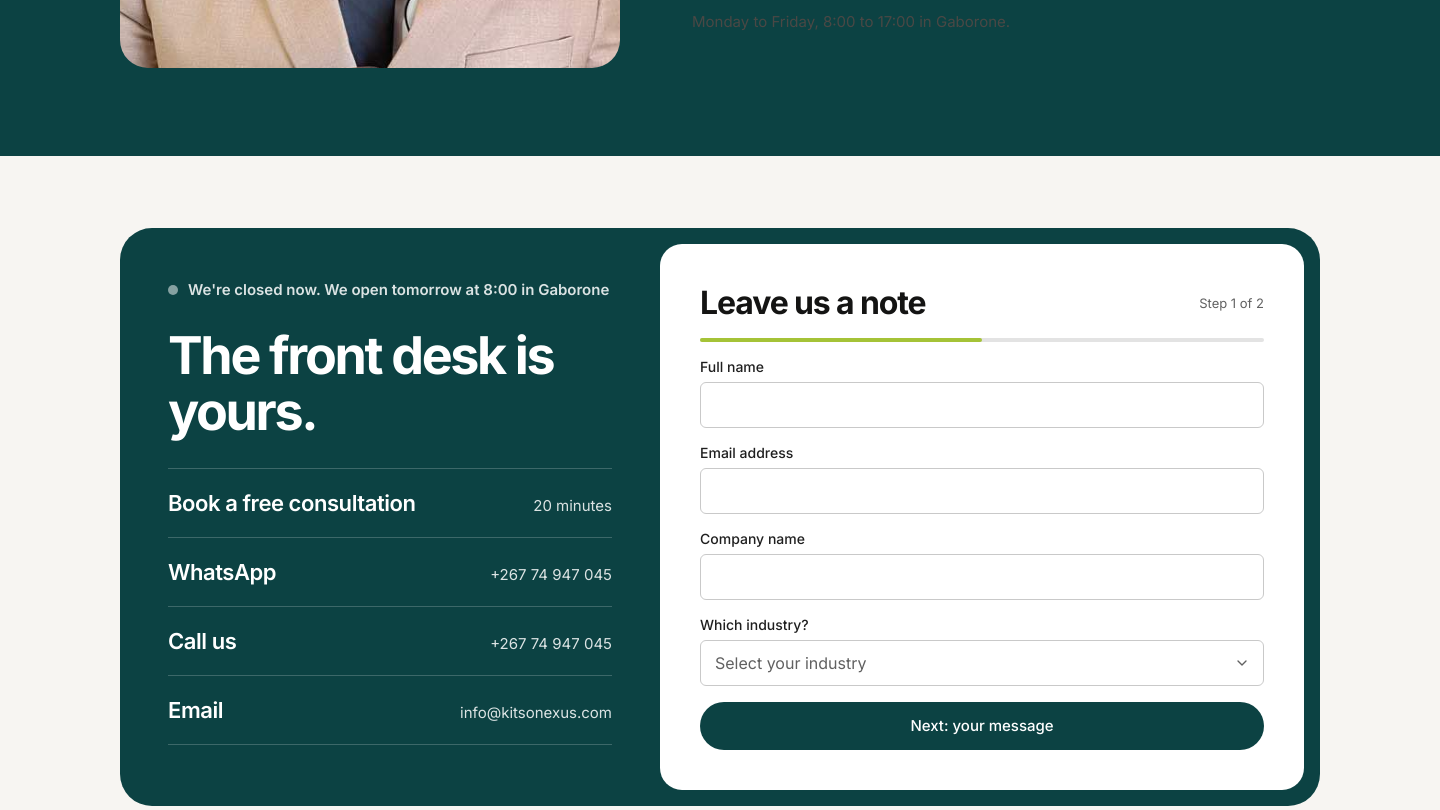
Contact page › sends the fixed format and says sent only when the server confirms
(page scrolled)
Step 1. Type "Neo Molefe" into the field labelled "Full name" → (982, 405), box [700, 382, 1264, 428]
Step 2. Type "neo@example.co.bw" into the field labelled "Email address" → (982, 491), box [700, 468, 1264, 514]
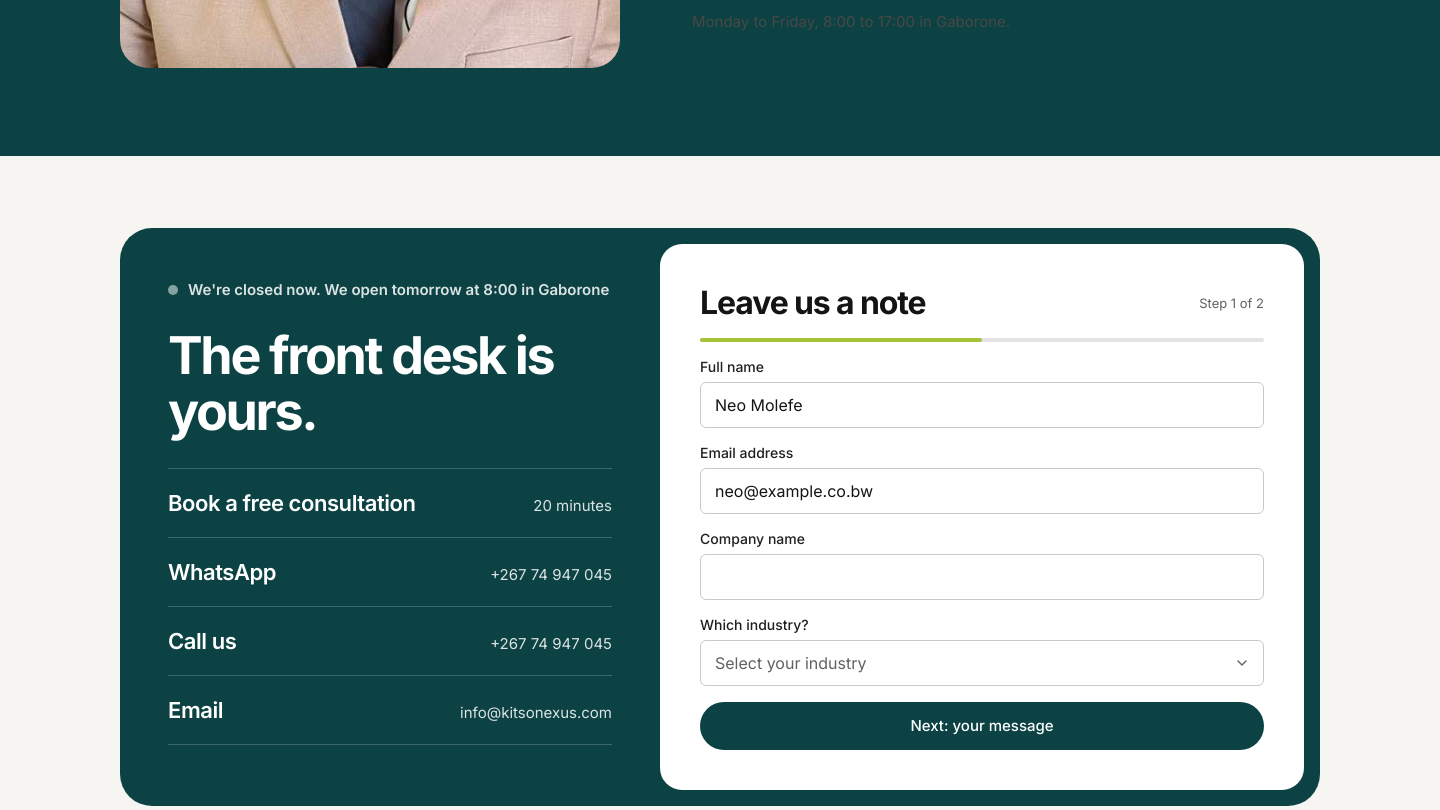
Step 3. Select "Retail & Distribution" in the dropdown labelled "Which industry?" → (982, 663), box [700, 640, 1264, 686]
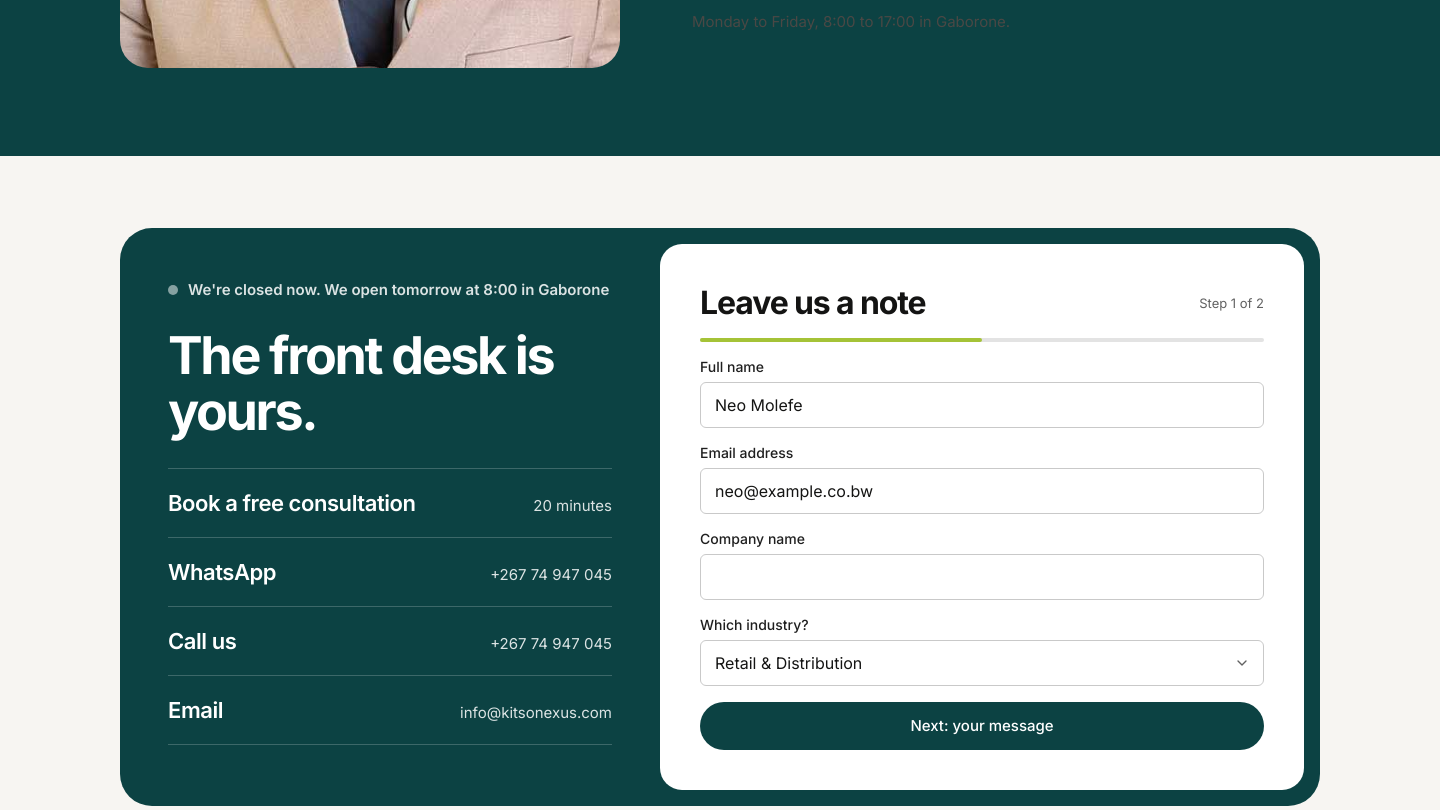
Step 4. Click the button "Next: your message" → (982, 726), box [700, 702, 1264, 750]
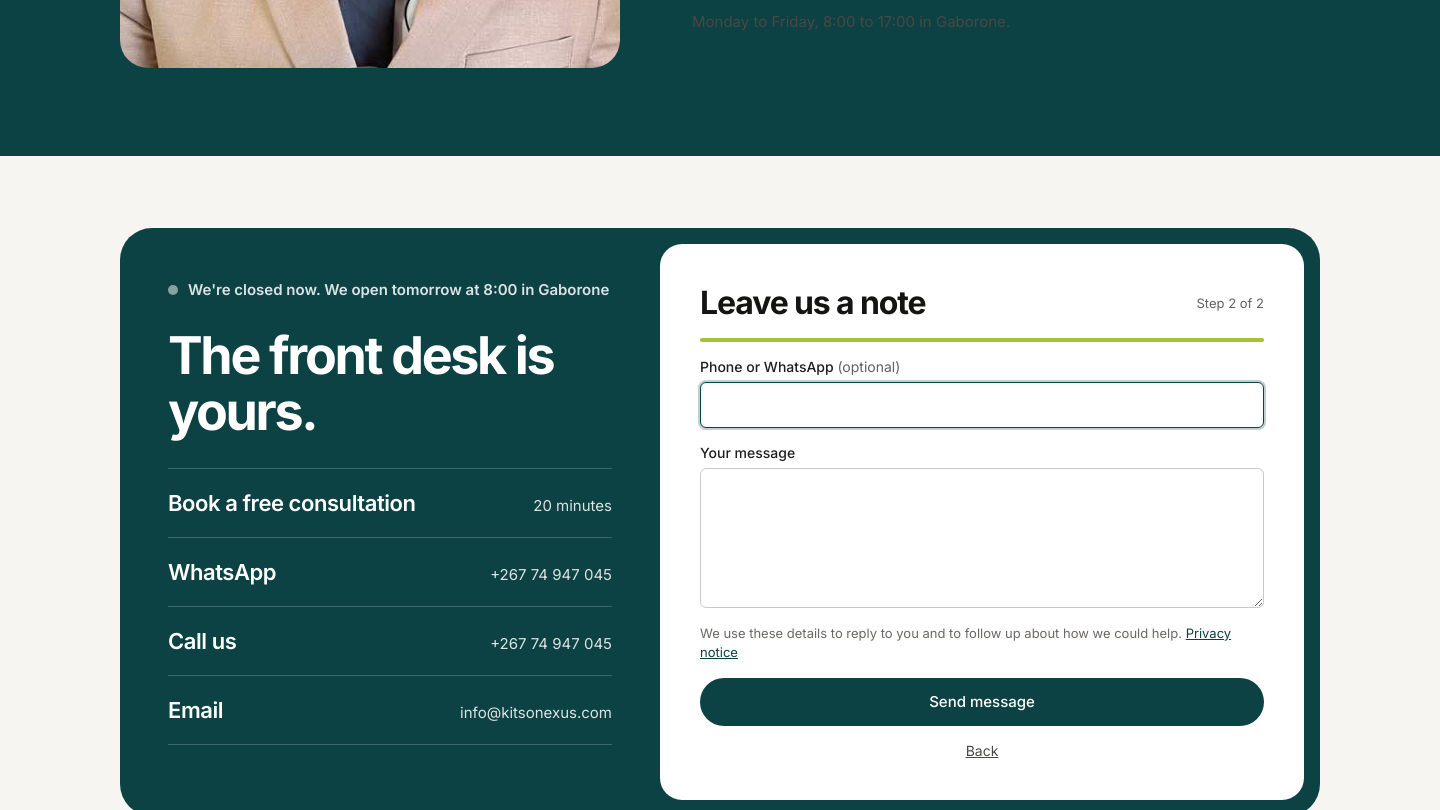
Step 5. Type "+267 71 234 567" into the field labelled "Phone or WhatsApp (optional)" → (982, 405), box [700, 382, 1264, 428]
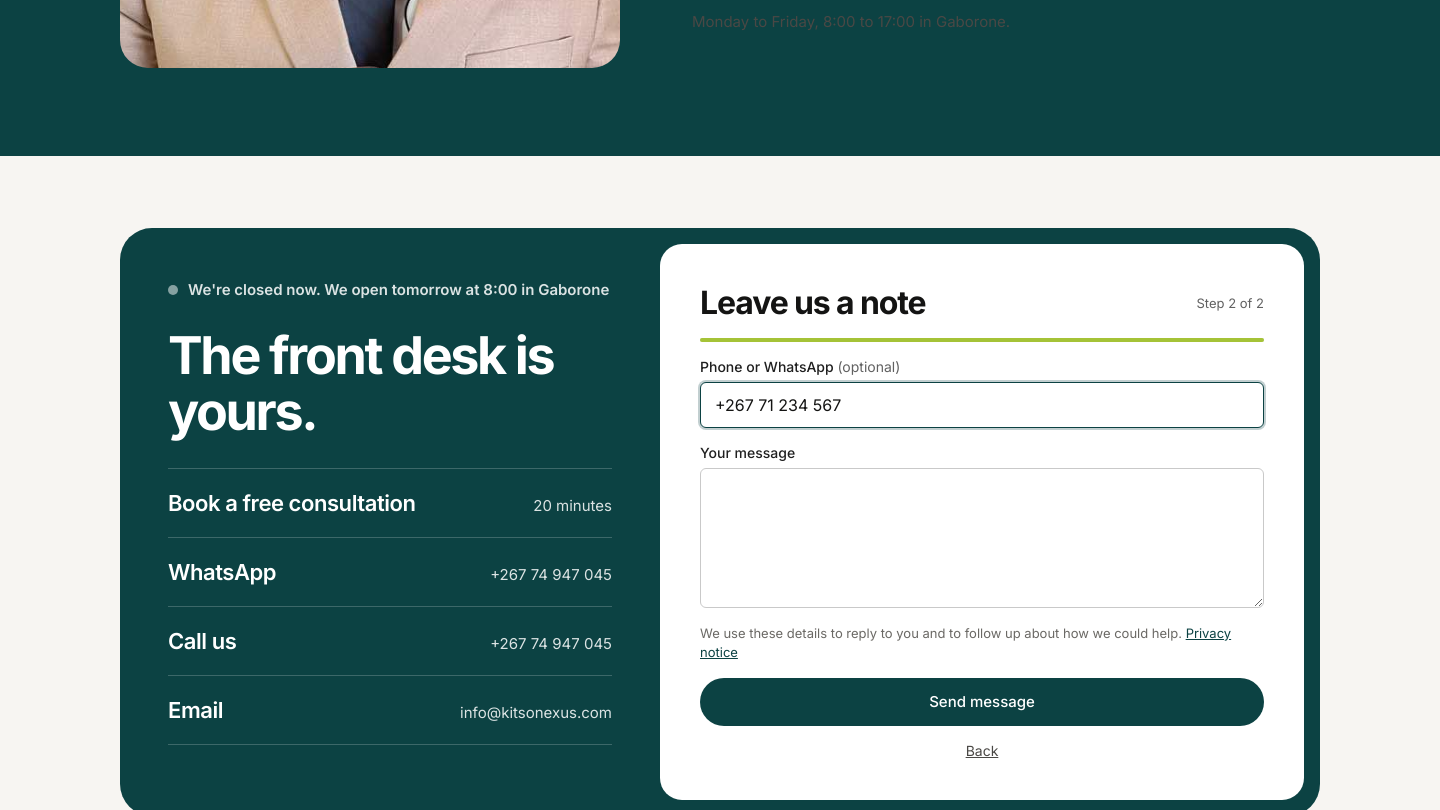
Step 6. Type "We need help with stock." into the text box labelled "Your message" → (982, 538), box [700, 468, 1264, 608]
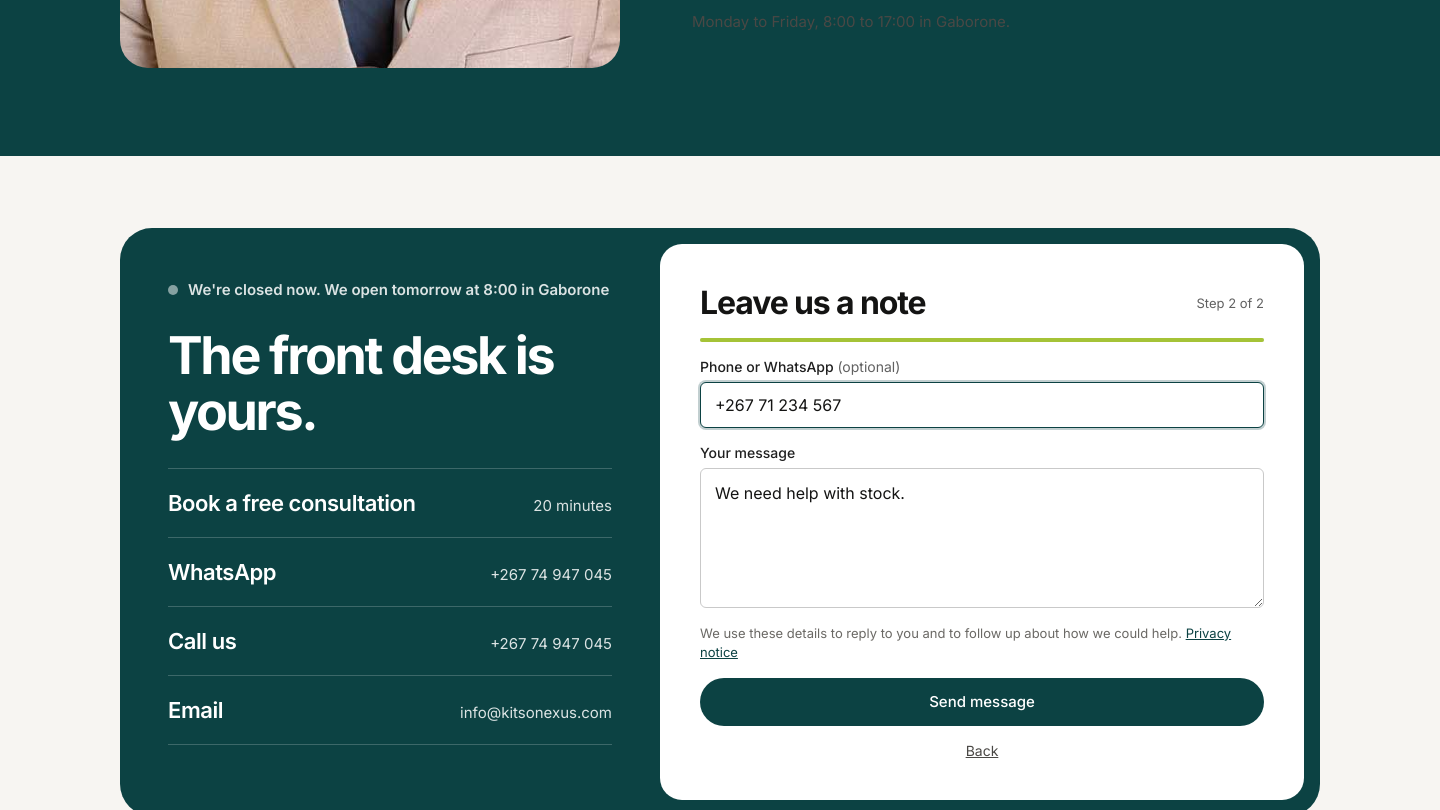
Step 7. Click the button "Send message" → (982, 702), box [700, 678, 1264, 726]
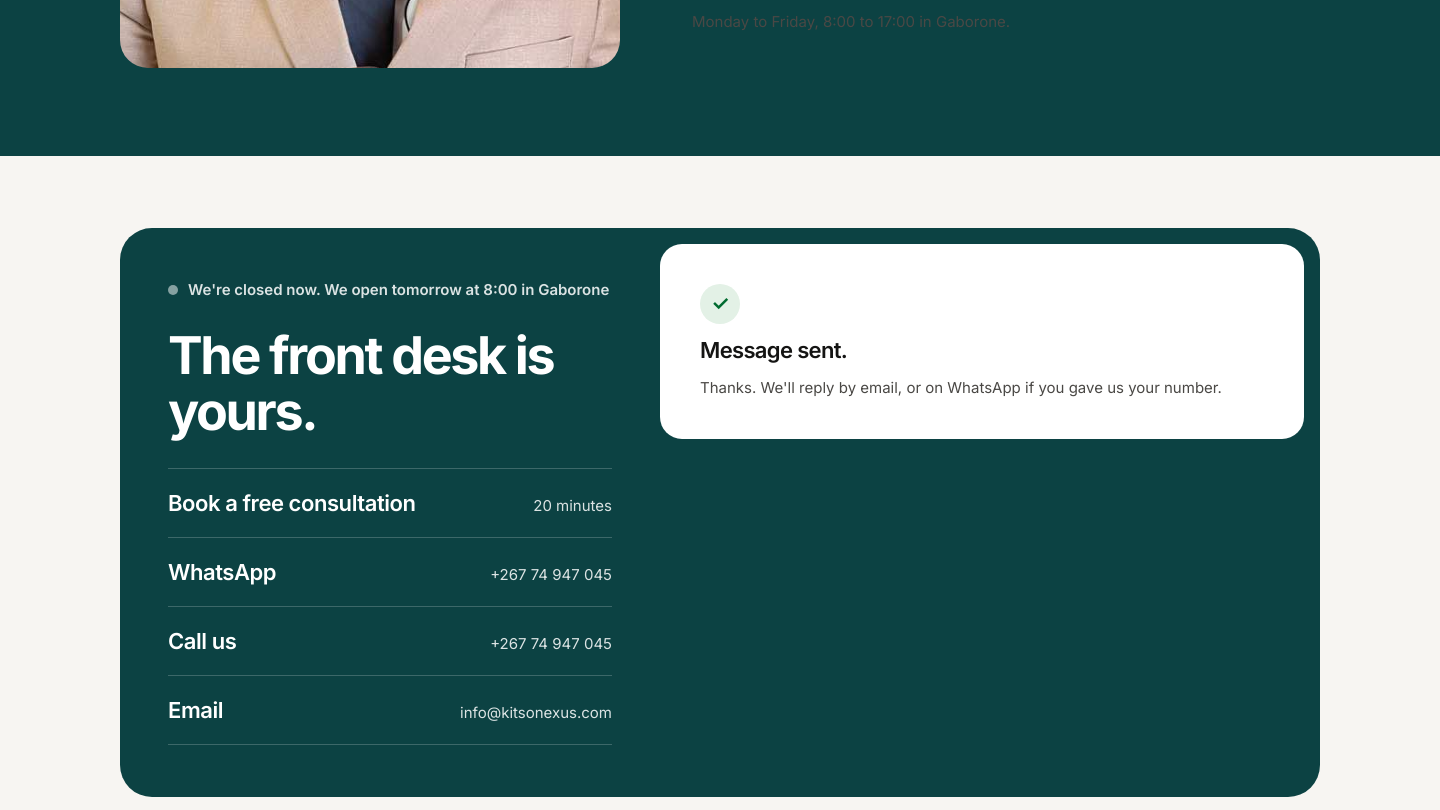
Now the message shows "Message sent.", box [700, 337, 847, 363]
